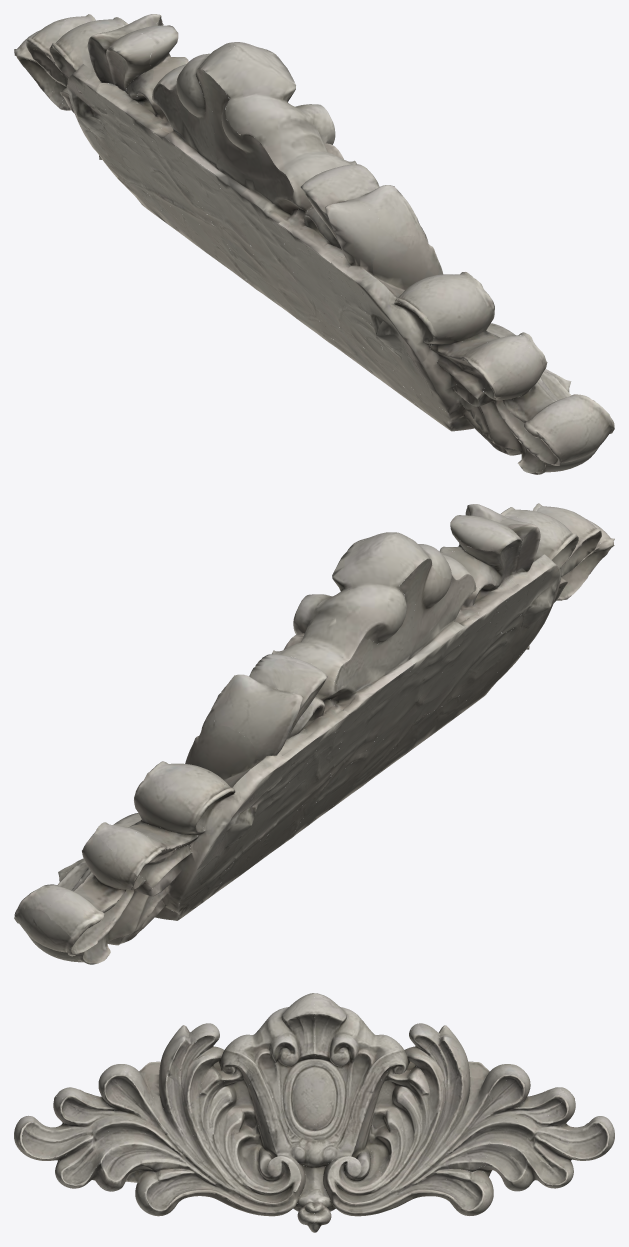
The model's file is relief-2.glb.
The picture shows the model from 3 angles, top to bottom: view 1: azimuth 30°, elevation 25°; view 2: azimuth 150°, elevation 25°; view 3: azimuth 270°, elevation 25°; orthographic projection. The views are drawn at different scales.
Visible parts, largest first — view 1: tripo_node_375f6b2e-fb31-4b41-9363-39a8b03cc7bc; view 2: tripo_node_375f6b2e-fb31-4b41-9363-39a8b03cc7bc; view 3: tripo_node_375f6b2e-fb31-4b41-9363-39a8b03cc7bc.
Boxes of the visible parts, left/top/right/bottom form: tripo_node_375f6b2e-fb31-4b41-9363-39a8b03cc7bc: left=14, top=14, right=614, bottom=474; tripo_node_375f6b2e-fb31-4b41-9363-39a8b03cc7bc: left=14, top=503, right=614, bottom=964; tripo_node_375f6b2e-fb31-4b41-9363-39a8b03cc7bc: left=14, top=993, right=614, bottom=1232.
Bounding box in the file's own units: 0.2663 × 0.3423 × 1.
1 material, 1 textured.
